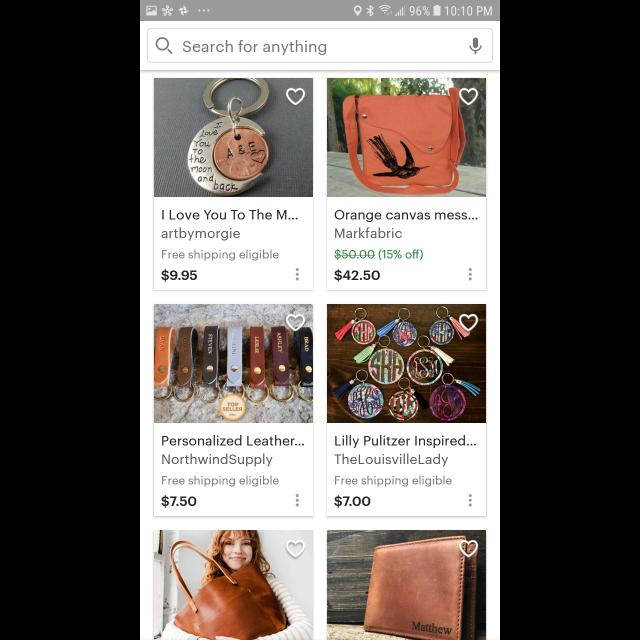icon: (286, 539, 306, 557), (286, 313, 306, 331), (459, 314, 478, 332), (458, 88, 478, 105), (286, 88, 306, 105), (458, 540, 478, 556), (156, 37, 172, 54), (470, 37, 482, 54), (468, 494, 472, 506), (296, 494, 300, 506), (468, 268, 472, 280), (296, 269, 300, 281)
image: (326, 304, 486, 424), (154, 304, 314, 424), (154, 78, 314, 198), (328, 78, 487, 198), (326, 530, 486, 640), (154, 530, 314, 640)
input: (147, 28, 493, 64)
text: (183, 40, 327, 56), (162, 434, 306, 446), (334, 210, 478, 222), (336, 436, 476, 448), (334, 453, 448, 467), (163, 453, 273, 467), (336, 475, 452, 487), (162, 475, 278, 487), (162, 250, 278, 262), (162, 210, 298, 220), (162, 227, 240, 241), (334, 248, 424, 260), (335, 228, 403, 238), (335, 270, 381, 282), (335, 496, 371, 508), (162, 270, 198, 282), (162, 496, 196, 508)
uppertaskbar: (140, 1, 500, 22)
